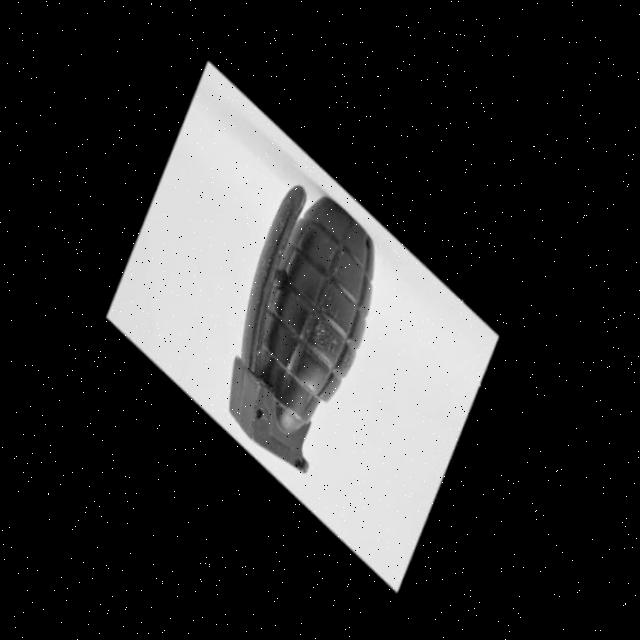grenade: (174, 166, 446, 495)
